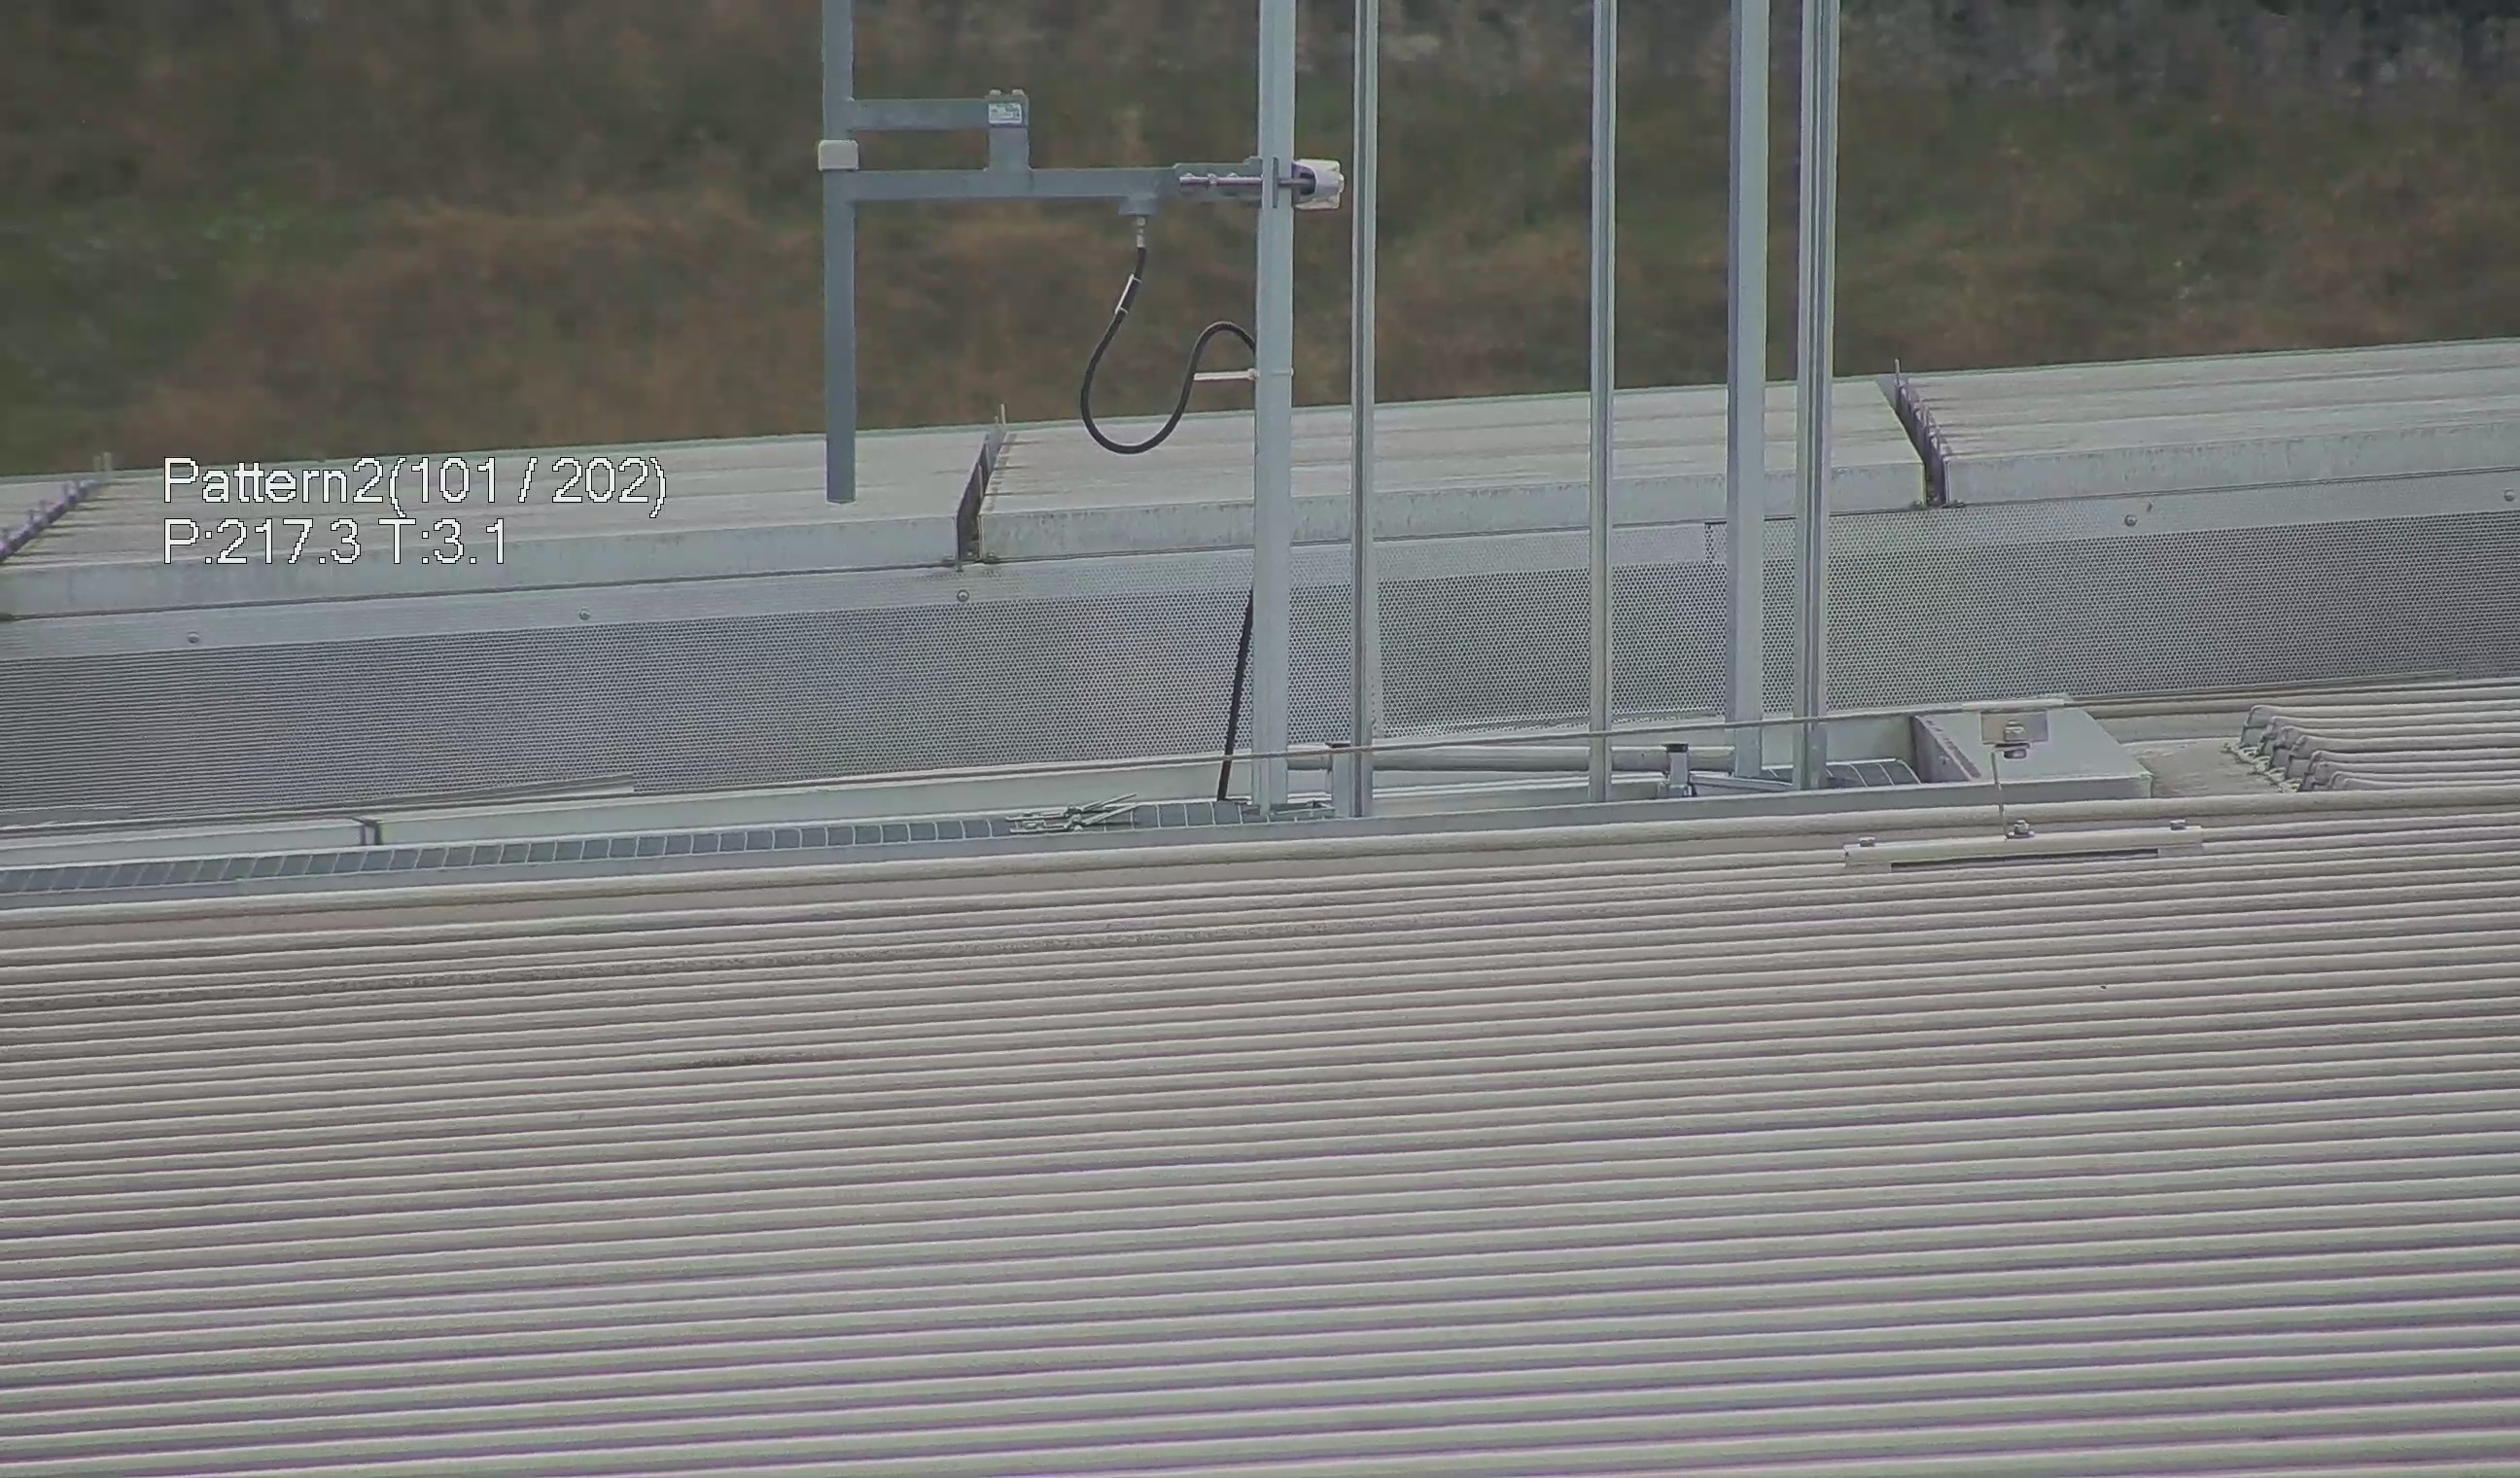Other: (1878, 343, 1977, 507)
